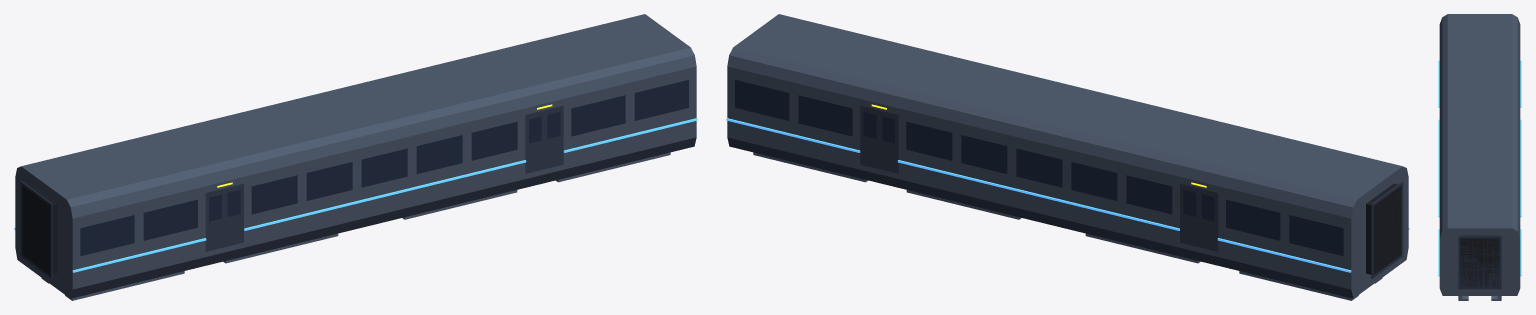
File: rail_maglev_car.glb
The picture shows the model from 3 angles, left to right: view 1: azimuth 30°, elevation 25°; view 2: azimuth 150°, elevation 25°; view 3: azimuth 270°, elevation 25°; orthographic projection. The views are drawn at different scales.
Visible parts, largest first — view 1: body, windows, underbody, gangway_bellows, led_stripe, skids; view 2: body, windows, underbody, gangway_bellows, led_stripe, skids; view 3: body, gangway_bellows, underbody, led_stripe, skids.
Boxes of the visible parts, left/top/right/bottom form: body: left=15, top=14, right=696, bottom=298; windows: left=80, top=80, right=688, bottom=256; underbody: left=20, top=105, right=563, bottom=278; gangway_bellows: left=22, top=183, right=57, bottom=274; led_stripe: left=14, top=118, right=697, bottom=272; skids: left=41, top=152, right=670, bottom=300; body: left=727, top=14, right=1408, bottom=298; windows: left=735, top=80, right=1343, bottom=256; underbody: left=860, top=105, right=1403, bottom=278; gangway_bellows: left=1366, top=183, right=1401, bottom=274; led_stripe: left=726, top=118, right=1409, bottom=272; skids: left=753, top=152, right=1382, bottom=300; body: left=1439, top=14, right=1520, bottom=295; gangway_bellows: left=1460, top=235, right=1499, bottom=287; underbody: left=1458, top=236, right=1501, bottom=289; led_stripe: left=1438, top=60, right=1521, bottom=276; skids: left=1458, top=296, right=1501, bottom=300.
Size of the model in its own units: 25 by 4.1 by 4.
